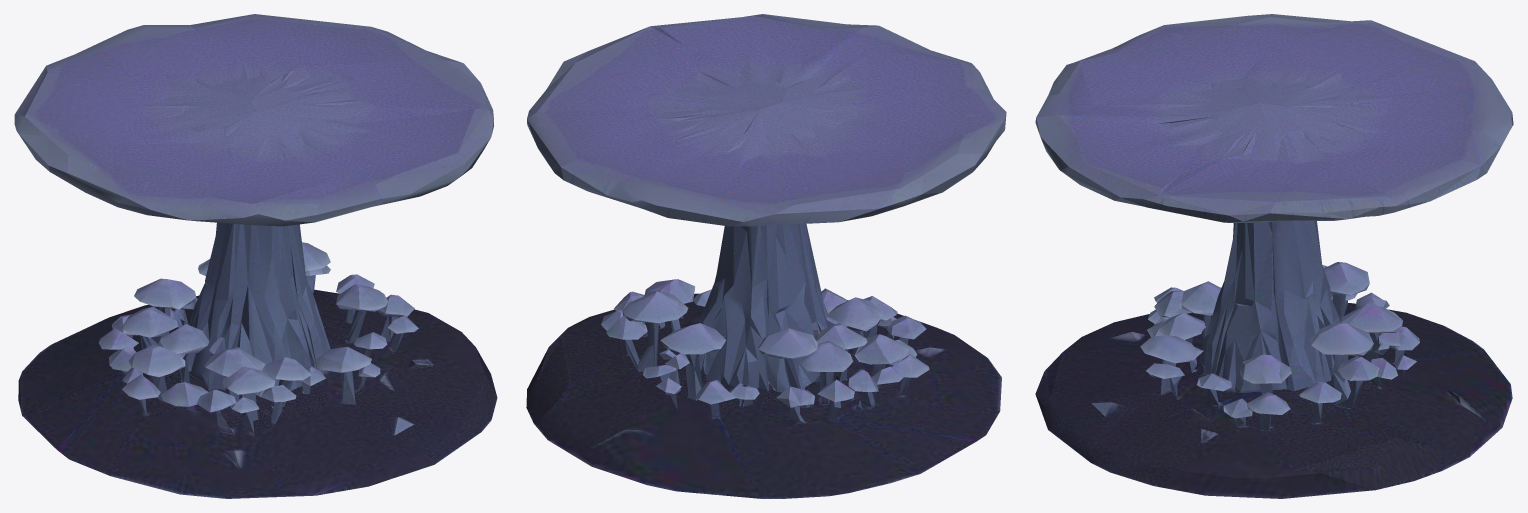
Rendered from p_atree2.glb.
3 renders of one model, left to right at view 1: azimuth 30°, elevation 25°; view 2: azimuth 150°, elevation 25°; view 3: azimuth 270°, elevation 25°, orthographic.
Size of the model in its own units: 1.9 by 1.28 by 1.9.
Materials: 1 (1 with a texture image).
